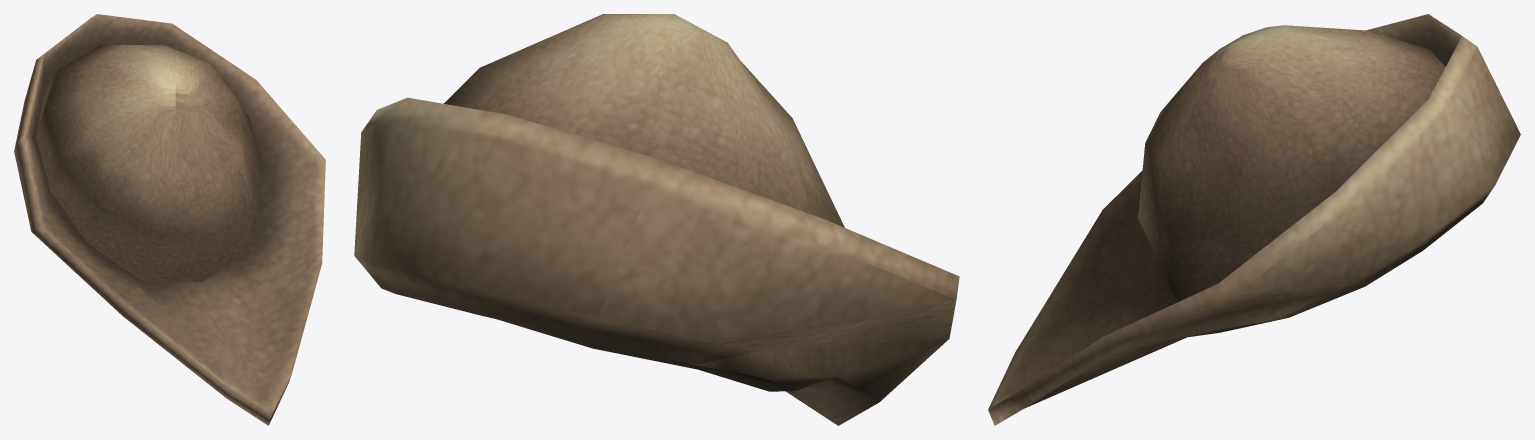
File: hat02.FBX
3 renders of one model, left to right at view 1: azimuth 30°, elevation 25°; view 2: azimuth 150°, elevation 25°; view 3: azimuth 270°, elevation 25°, orthographic. The views are drawn at different scales.
Parts seen in each view (by area): view 1: hat02; view 2: hat02; view 3: hat02.
Boxes of the visible parts, x1,y1,x2,y2 form: hat02: [14, 14, 325, 425]; hat02: [354, 14, 959, 425]; hat02: [988, 14, 1520, 425].
Size of the model in its own units: 0.4232 by 0.4896 by 0.3981.
